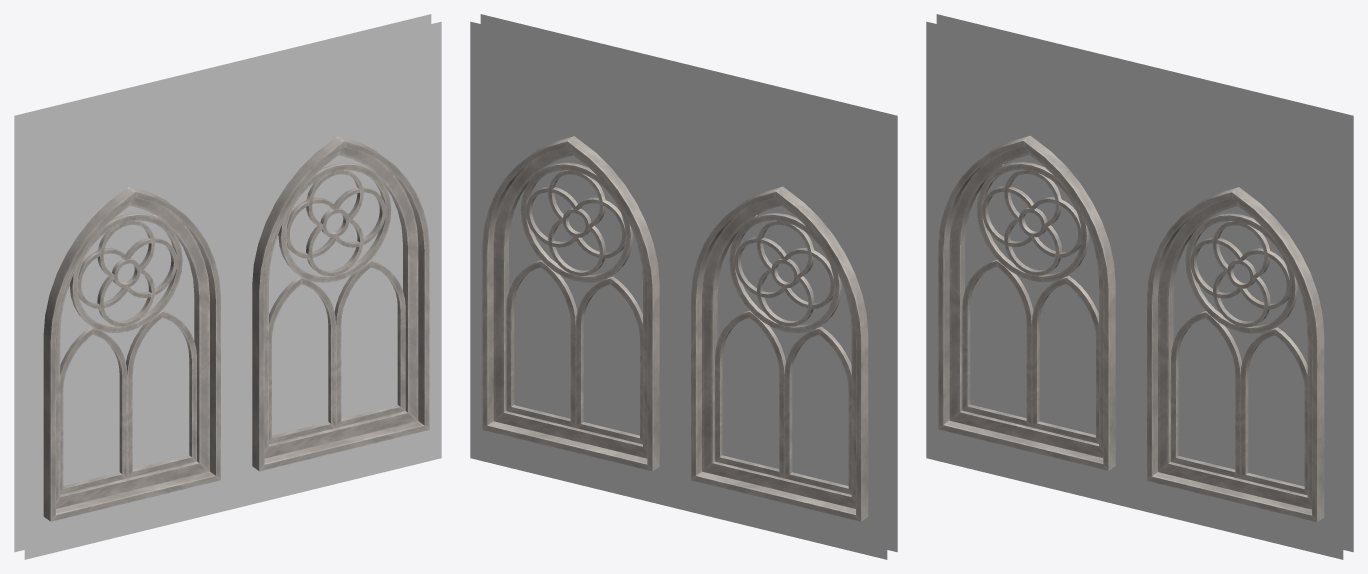
File: Wall_Window_K_B.fbx
3 renders of one model, left to right at view 1: azimuth 30°, elevation 25°; view 2: azimuth 150°, elevation 25°; view 3: azimuth 330°, elevation 25°, orthographic.
Visible parts, largest first — view 1: Wall_Window_K_B; view 2: Wall_Window_K_B; view 3: Wall_Window_K_B.
Boxes of the visible parts, <box> form: Wall_Window_K_B: <box>14,14,441,559</box>; Wall_Window_K_B: <box>470,14,897,559</box>; Wall_Window_K_B: <box>926,14,1353,559</box>.
Size of the model in its own units: 6 by 0.6115 by 6.
